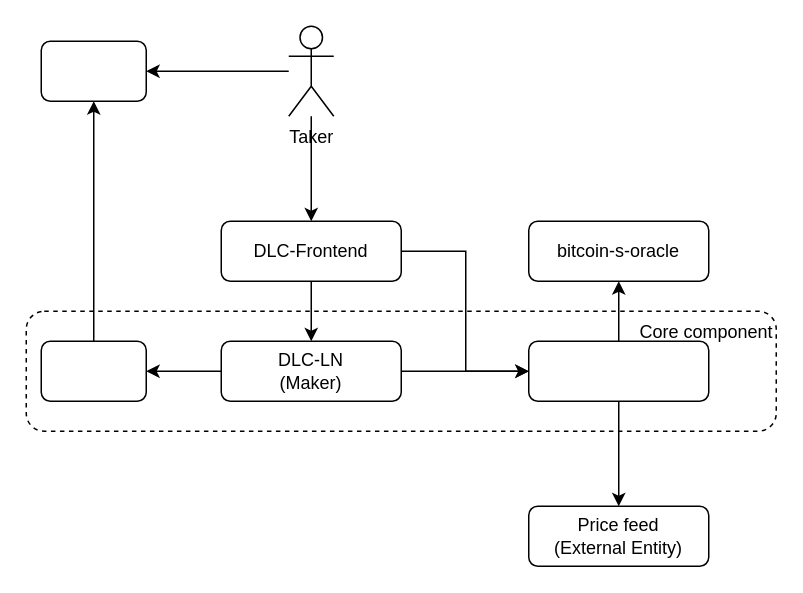
Image size: 803x593. Some labels were removed from this diagram. Here are the shapes that lost their labels. From the top down, the centre of each, then its label:
At (93,70): "LN Node (Taker)".
At (93,370): "LN Node (Maker)".
At (618,370): "Oracle-server".
